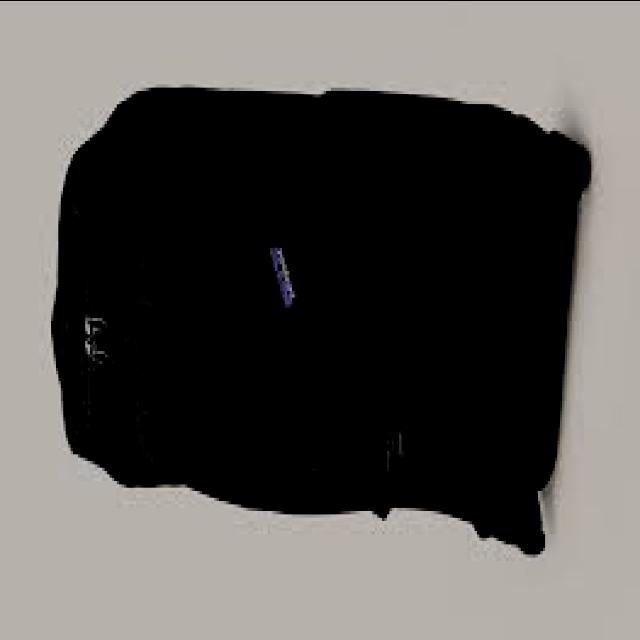backpack: (50, 88, 590, 558)
